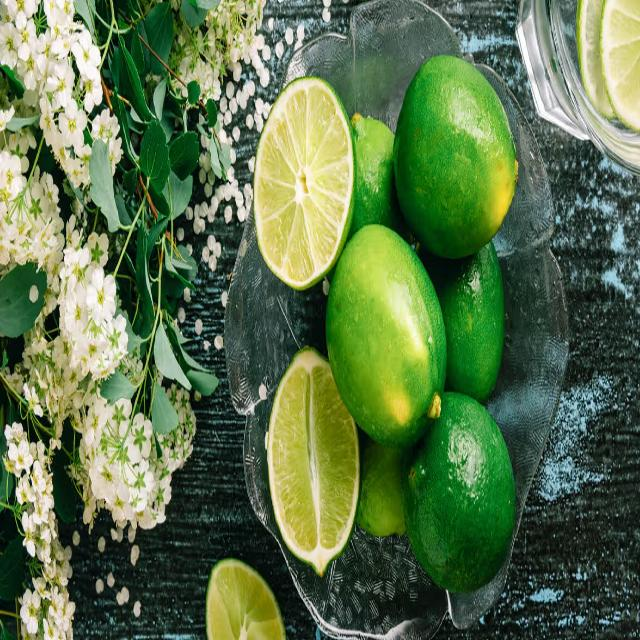organic: (395, 60, 521, 266), (325, 226, 442, 437), (252, 74, 356, 292), (266, 350, 364, 571)
